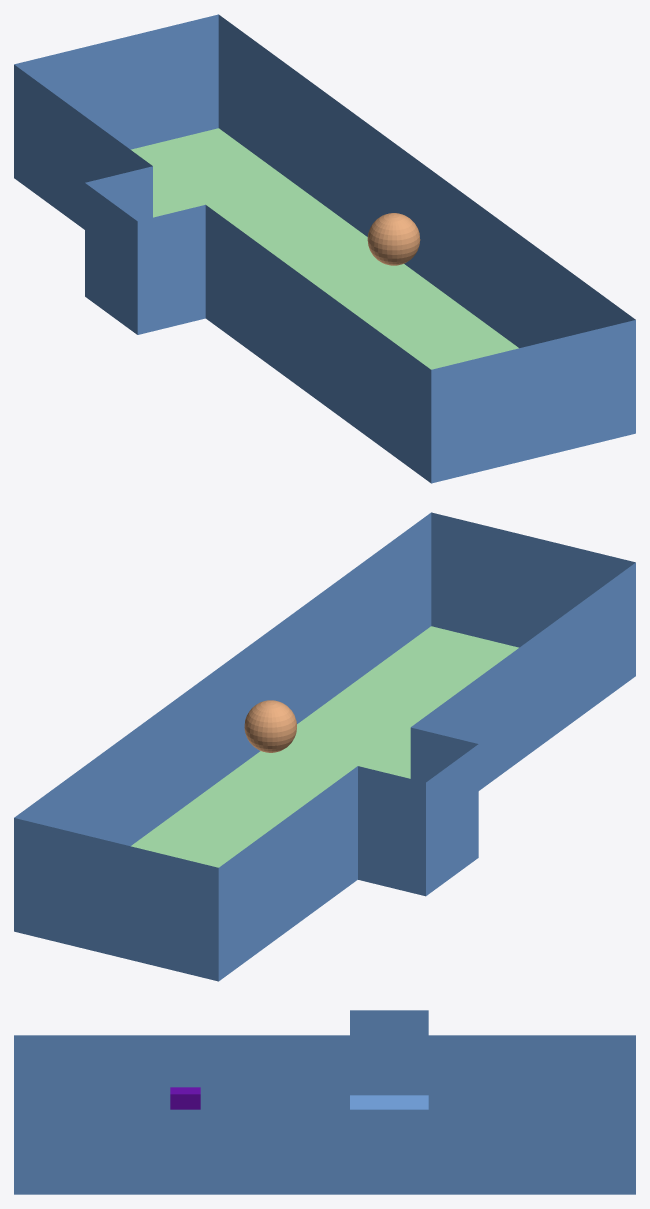
Rendered from navigation_test.gltf.
3 renders of one model, top to bottom at view 1: azimuth 30°, elevation 25°; view 2: azimuth 150°, elevation 25°; view 3: azimuth 270°, elevation 25°, orthographic. The views are drawn at different scales.
Parts seen in each view (by area): view 1: Cube, Sphere.026; view 2: Cube, Sphere.026; view 3: Cube, Cube.002.
Boxes of the visible parts, <box> form: Cube: <box>14,14,635,483</box>; Sphere.026: <box>367,213,420,265</box>; Cube: <box>14,512,635,981</box>; Sphere.026: <box>244,700,296,752</box>; Cube: <box>14,1010,635,1194</box>; Cube.002: <box>170,1087,200,1109</box>.
Size of the model in its own units: 10.04 by 4 by 26.6.
